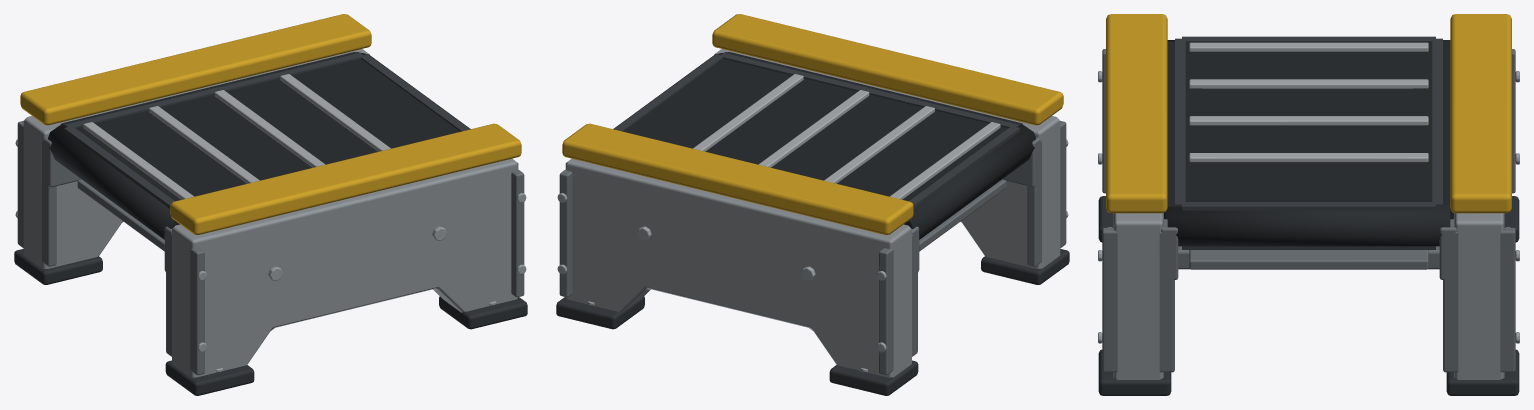
The model's file is fw_belt.glb.
The picture shows the model from 3 angles, left to right: view 1: azimuth 30°, elevation 25°; view 2: azimuth 150°, elevation 25°; view 3: azimuth 270°, elevation 25°; orthographic projection. The views are drawn at different scales.
Parts seen in each view (by area): view 1: prism, belt, block.008, block.002, prism.001, cyl.001, block.003, block.009, block.016, block.005, block.004, block.006 (+9 smaller); view 2: prism.001, belt, block.002, block.008, prism, cyl.001, block.009, block.003, block.015, block.011, block.010, block.012 (+9 smaller); view 3: belt, block.002, block.008, cyl, prism, prism.001, block.021, block.005, block.011, block.022, block, block.023 (+15 smaller).
Boxes of the visible parts, x1,y1,x2,y2 form: prism: (172,158,518,377); belt: (61,52,459,201); block.008: (20,14,371,125); block.002: (170,123,521,234); prism.001: (23,49,369,268); cyl.001: (48,124,179,239); block.003: (166,235,204,375); block.009: (17,120,56,266); block.016: (65,53,364,128); block.005: (511,169,524,297); block.004: (165,360,254,395); block.006: (439,296,527,329); prism.001: (565,158,911,377); belt: (624,52,1022,201); block.002: (712,14,1063,125); block.008: (562,123,913,234); prism: (714,49,1060,268); cyl.001: (904,124,1035,239); block.009: (879,235,917,375); block.003: (1027,120,1066,266); block.015: (719,53,1018,128); block.011: (559,169,572,297); block.010: (829,360,918,395); block.012: (556,296,644,329); belt: (1164,41,1453,219); block.002: (1106,14,1167,213); block.008: (1450,14,1511,213); cyl: (1167,206,1450,246); prism: (1113,213,1163,379); prism.001: (1454,213,1504,379); block.021: (1189,250,1428,269); block.005: (1102,227,1174,372); block.011: (1443,227,1515,372); block.022: (1189,42,1428,51); block: (1189,153,1428,162); block.023: (1189,79,1428,88).
Size of the model in its own units: 1.22 by 0.61 by 1.16.
